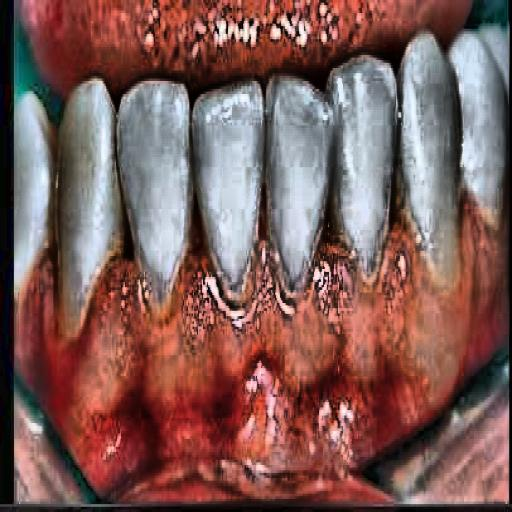Gingivitis: (41, 239, 396, 474)
